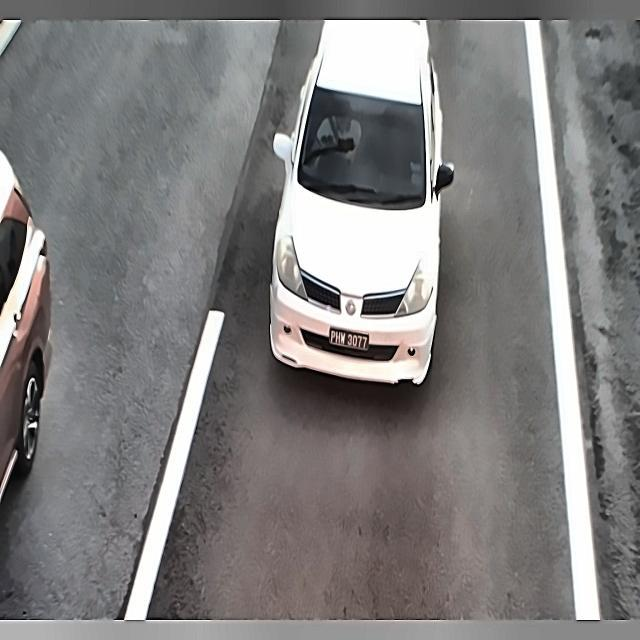car: (325, 319, 373, 359)
